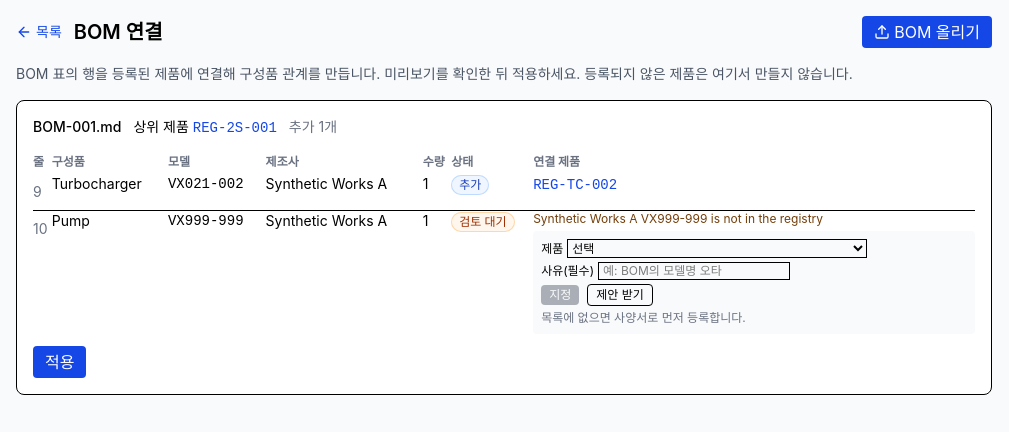
Test: BomPage › fills the pick form with a verified suggestion for the reviewer to confirm (D-112)
What coordinates should you click on to do the following:
click the button "제안 받기"
I would click on:
 (620, 295)
Its box is [587,284,653,306].
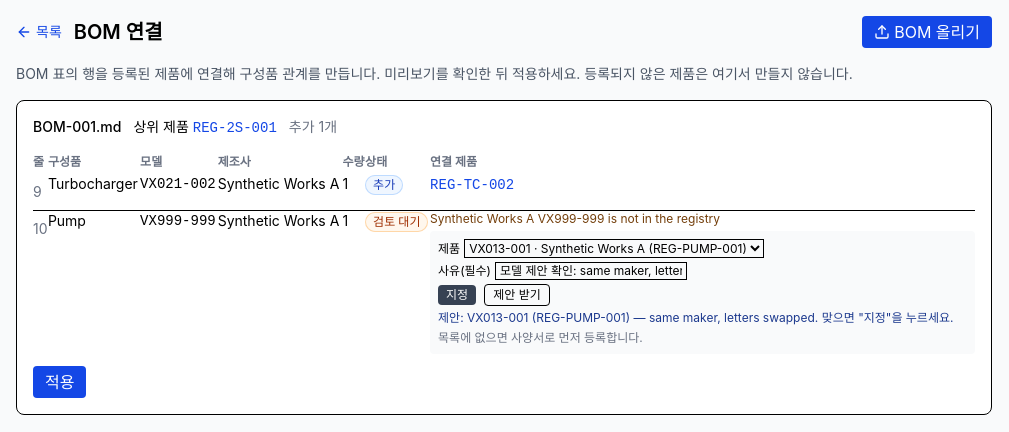
Now the text "제안: VX013-001" is shown, box [438,310,967,326]
Now the dropdown labelled "제품" shows "VX013-001 · Synthetic Works A (REG-PUMP-001)", box [464,239,764,258]
